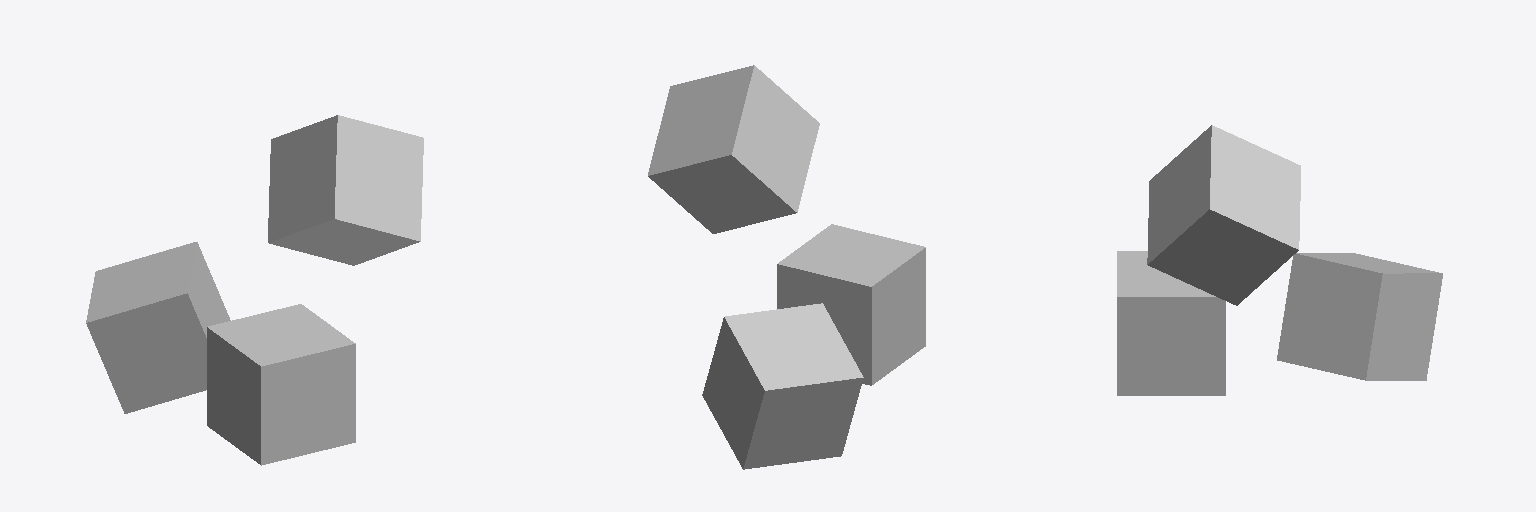
File: cubes2.obj
3 views of the same model, side by side, from view 1: azimuth 30°, elevation 25°; view 2: azimuth 150°, elevation 25°; view 3: azimuth 270°, elevation 25° (orthographic).
Visible parts, largest first — view 1: Cube_Cube_Material.002, Cube.002_Cube.002_Material.001, Cube.001_Cube.001_Material; view 2: Cube.002_Cube.002_Material.001, Cube.001_Cube.001_Material, Cube_Cube_Material.002; view 3: Cube.002_Cube.002_Material.001, Cube.001_Cube.001_Material, Cube_Cube_Material.002.
Boxes of the visible parts, box(x1,y1,x2,y2) form: Cube_Cube_Material.002: box(207, 304, 355, 465); Cube.002_Cube.002_Material.001: box(268, 115, 423, 265); Cube.001_Cube.001_Material: box(86, 242, 230, 413); Cube.002_Cube.002_Material.001: box(648, 65, 819, 233); Cube.001_Cube.001_Material: box(702, 303, 863, 469); Cube_Cube_Material.002: box(777, 224, 925, 385); Cube.002_Cube.002_Material.001: box(1147, 125, 1300, 305); Cube.001_Cube.001_Material: box(1277, 253, 1442, 380); Cube_Cube_Material.002: box(1117, 251, 1225, 395).
Bounding box in the file's own units: 5.62 × 6.24 × 5.99.